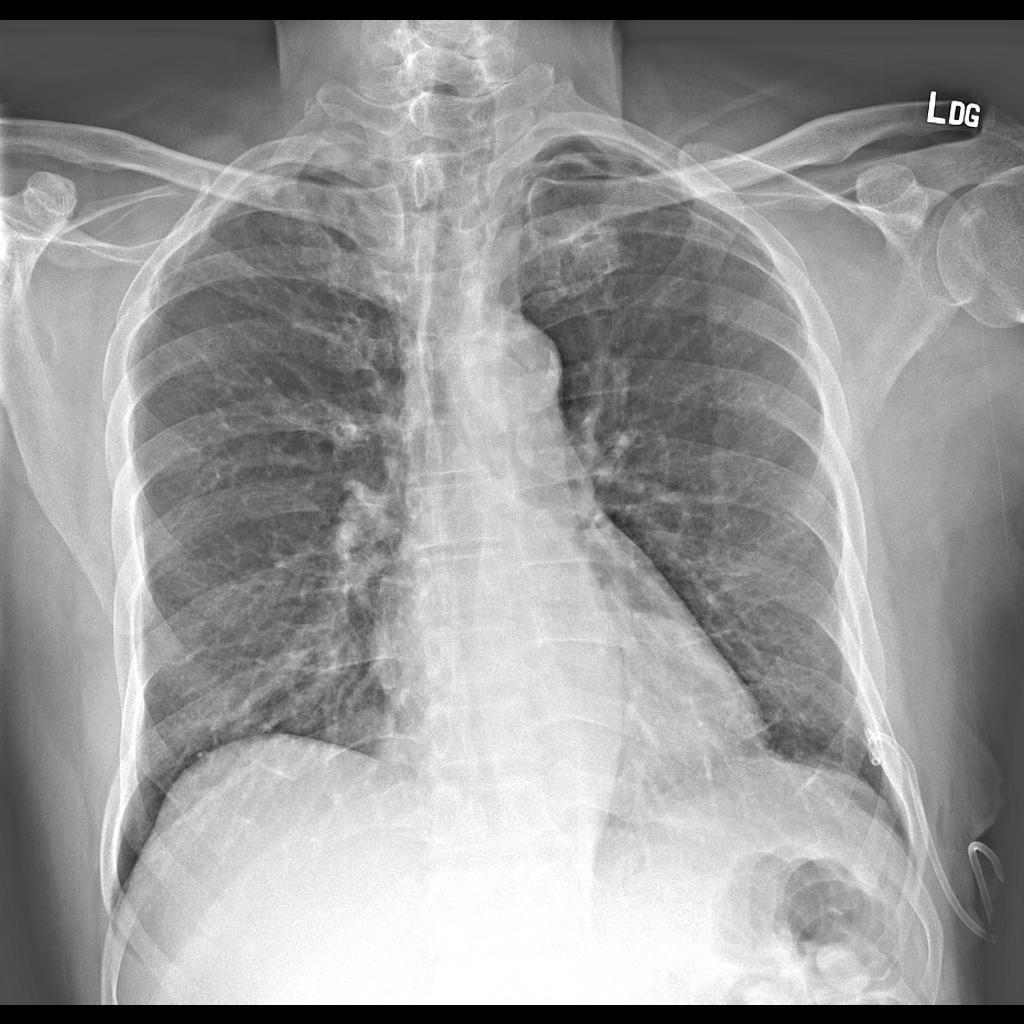Nodule: (569, 218, 629, 282)
